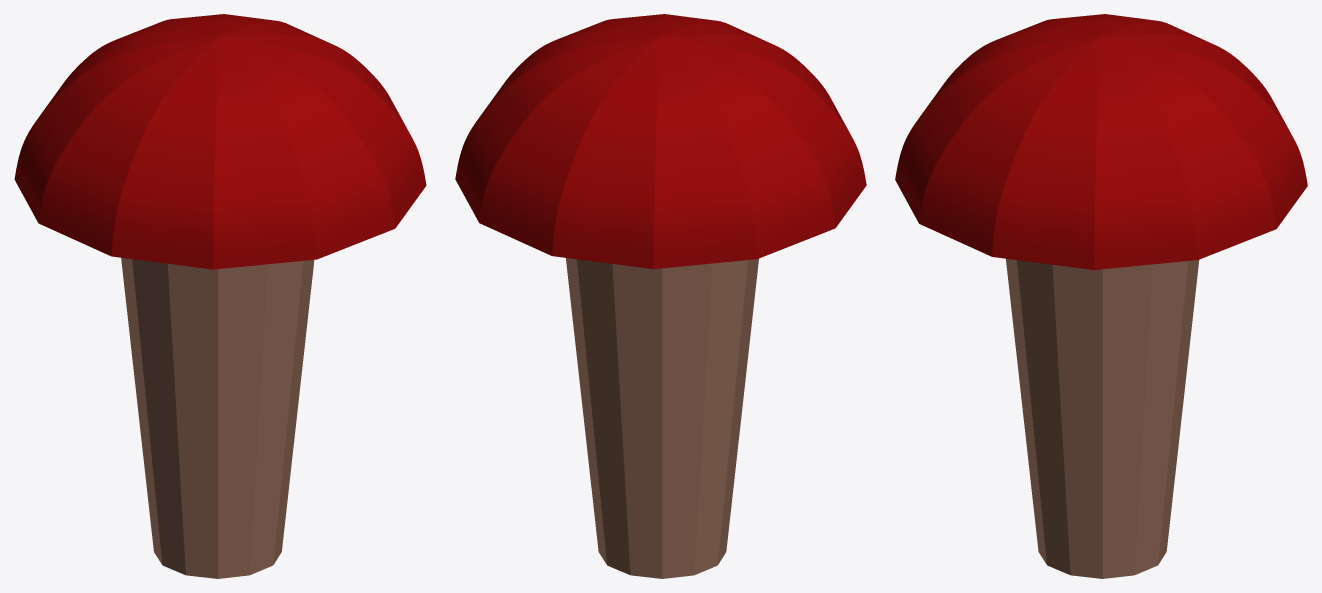
The picture shows the model from 3 angles, left to right: view 1: azimuth 30°, elevation 25°; view 2: azimuth 150°, elevation 25°; view 3: azimuth 270°, elevation 25°; orthographic projection.
Visible parts, largest first — view 1: crown, stem; view 2: crown, stem; view 3: crown, stem.
Boxes of the visible parts, x1,y1,x2,y2 form: crown: [14, 14, 426, 269]; stem: [121, 257, 314, 578]; crown: [455, 14, 866, 269]; stem: [566, 258, 758, 578]; crown: [895, 14, 1307, 269]; stem: [1006, 258, 1199, 578].
Size of the model in its own units: 0.0869 by 0.12 by 0.0869.
